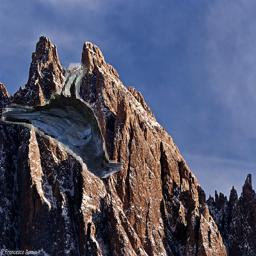Crow: (0, 62, 123, 178)
